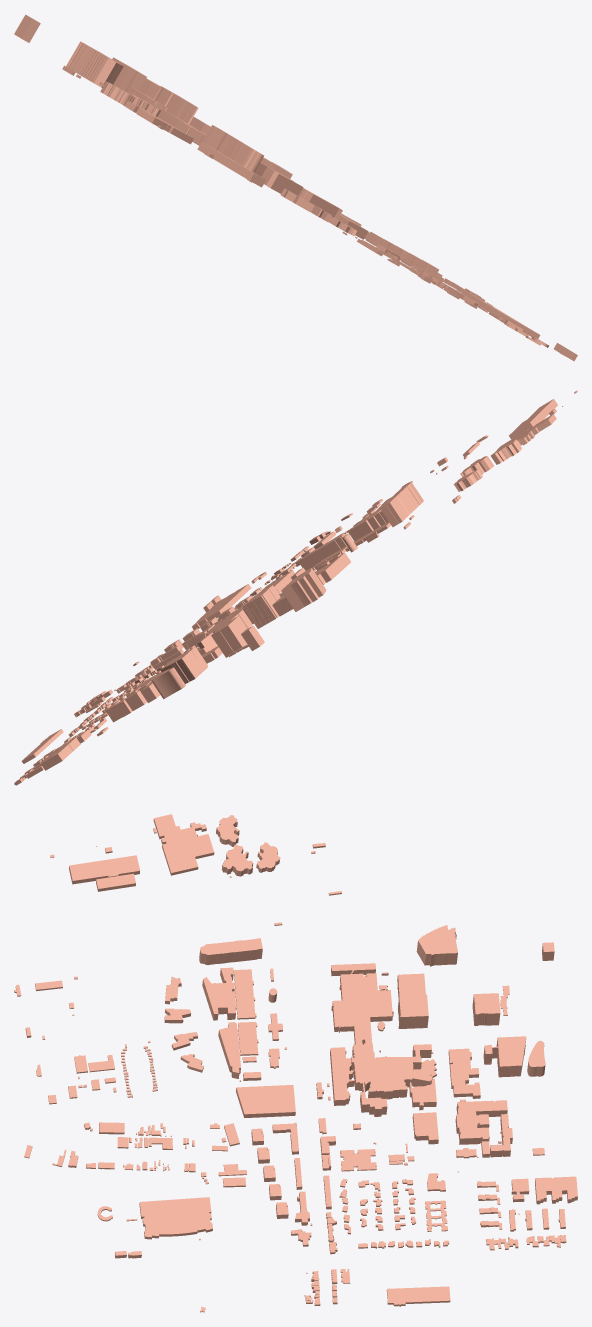
3 renders of one model, top to bottom at view 1: azimuth 30°, elevation 25°; view 2: azimuth 150°, elevation 25°; view 3: azimuth 270°, elevation 25°, orthographic. The views are drawn at different scales.
Bounding box in the file's own units: 975 × 769 × 1249.
